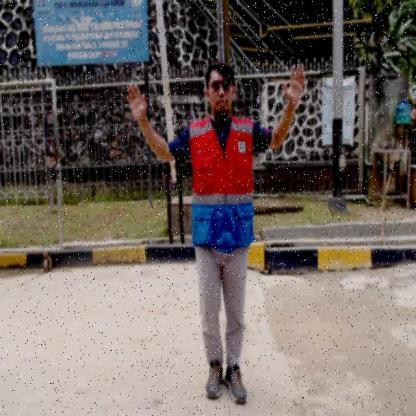boots: (204, 355, 228, 398), (226, 364, 248, 408)
